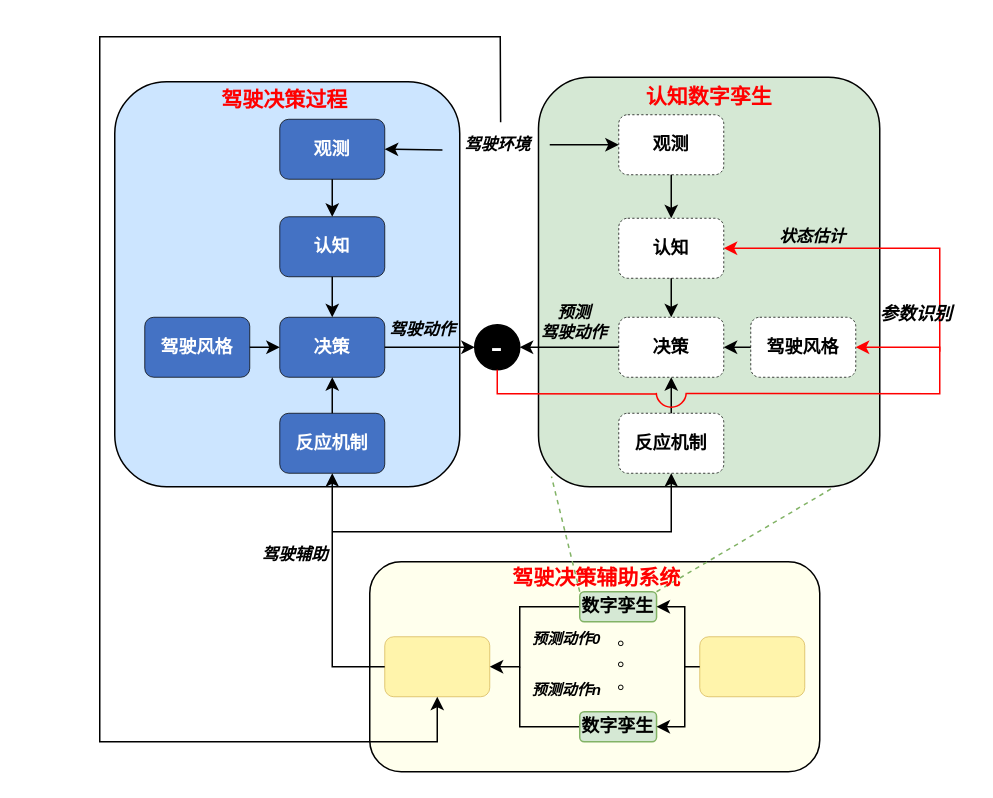
Image size: 993x798. Some labels were removed from this diagram. Here are the shapes that lost their labels. From the top down, the centre of each, then its label:
At (436,666): "风险分析".
At (751,666): "辅助选项".
